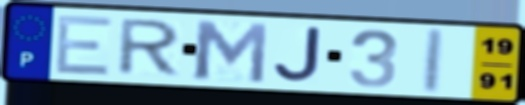3: (348, 27, 400, 89)
E: (52, 13, 116, 77)
I: (418, 26, 448, 96)
J: (271, 25, 324, 85)
M: (191, 18, 271, 86)
R: (113, 17, 185, 78)
